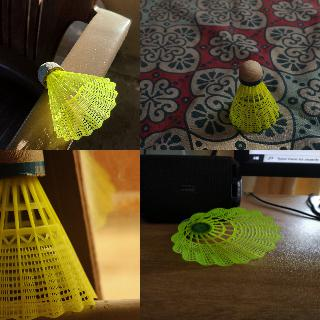shuttlecock: (0, 150, 98, 319), (172, 207, 280, 267), (38, 61, 116, 140), (228, 60, 278, 132)
